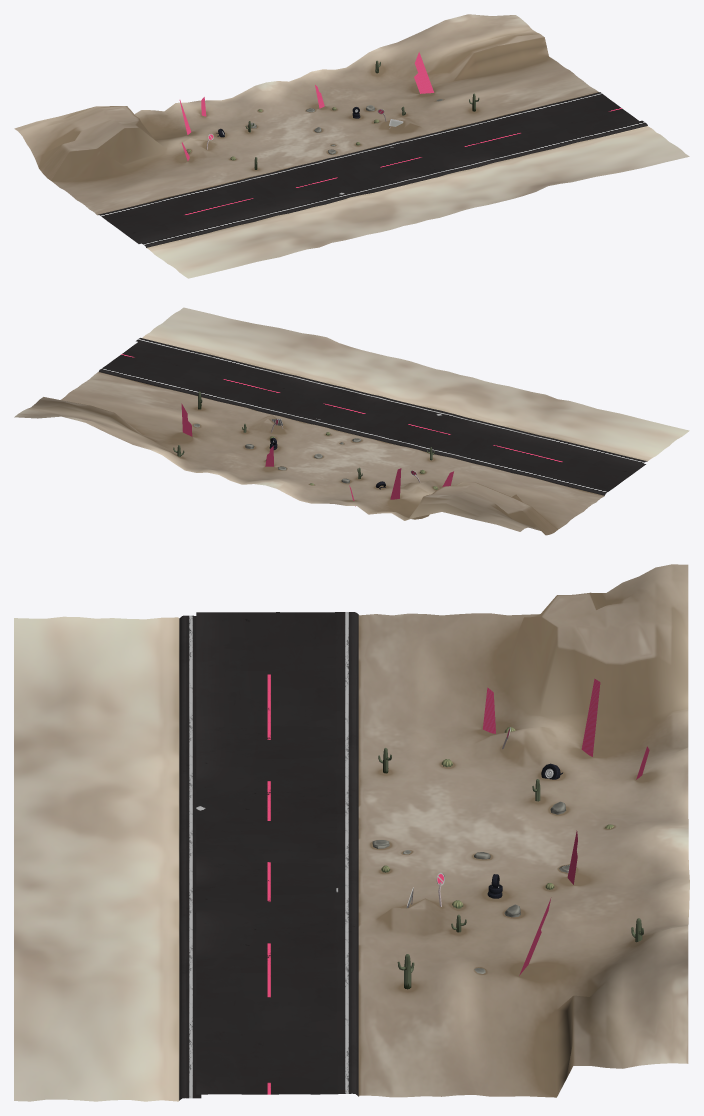
File: Stage02_Desert.fbx
3 views of the same model, one above another, from view 1: azimuth 30°, elevation 25°; view 2: azimuth 150°, elevation 25°; view 3: azimuth 270°, elevation 25° (orthographic). The views are drawn at different scales.
Parts seen in each view (by area): view 1: Stage02_Desert; view 2: Stage02_Desert; view 3: Stage02_Desert.
Part boxes in pixels (box(x1,y1,x2,y2)): Stage02_Desert: box(14, 14, 689, 278); Stage02_Desert: box(14, 307, 689, 535); Stage02_Desert: box(14, 564, 689, 1101).
Size of the model in its own units: 895 by 71.31 by 527.
